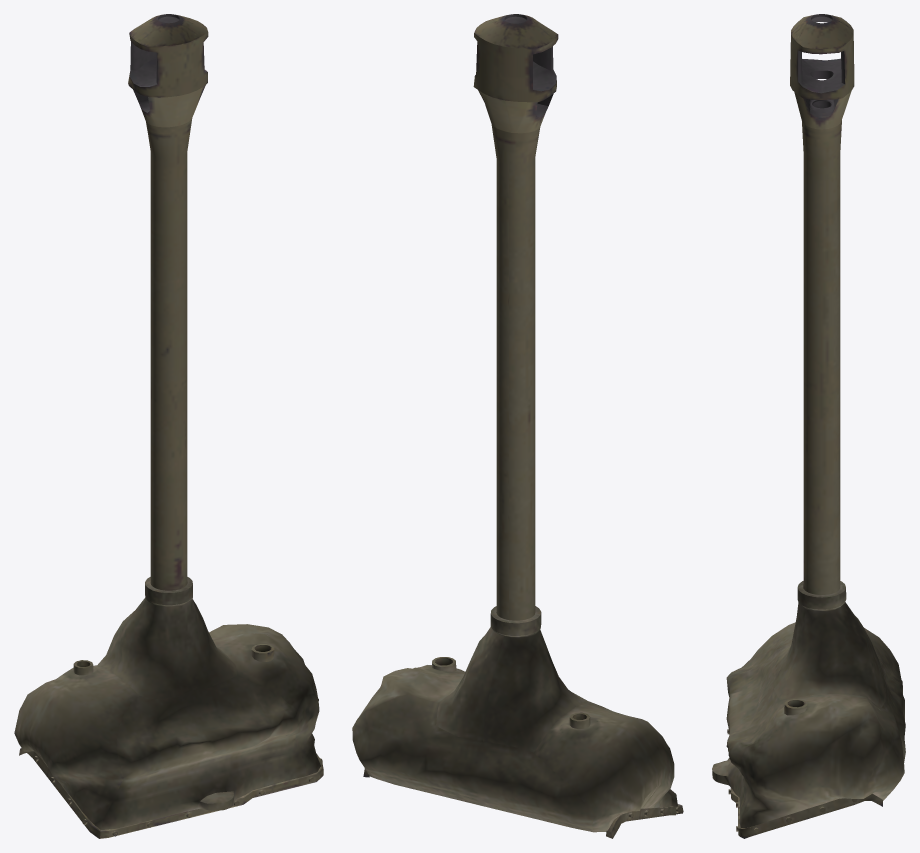
Rendered from Gun_08.glb.
3 views of the same model, side by side, from view 1: azimuth 30°, elevation 25°; view 2: azimuth 150°, elevation 25°; view 3: azimuth 270°, elevation 25° (orthographic). The views are drawn at different scales.
Parts seen in each view (by area): view 1: set_0_group_0; view 2: set_0_group_0; view 3: set_0_group_0.
Part boxes in pixels (x1,y1,x2,y2): set_0_group_0: [14, 14, 323, 838]; set_0_group_0: [352, 14, 683, 838]; set_0_group_0: [712, 14, 905, 838].
Bounding box in the file's own units: 1.51 × 4.06 × 0.929.
1 material, 1 textured.
